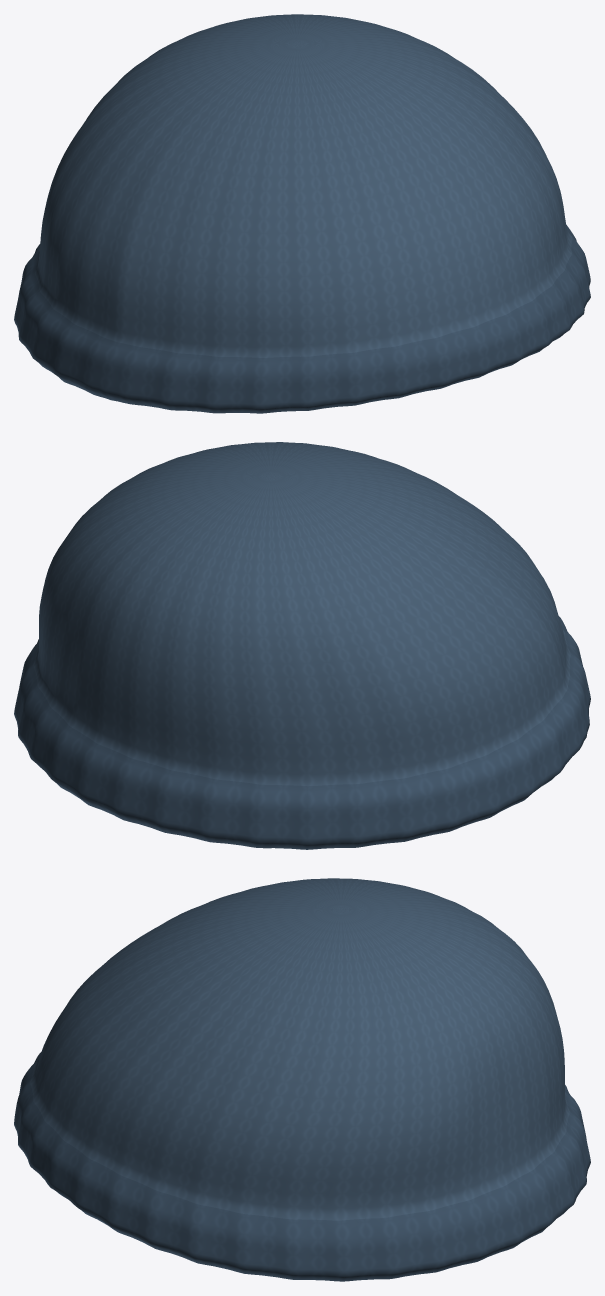
The model's file is beanie-masculine-curly-top.glb.
3 renders of one model, top to bottom at view 1: azimuth 30°, elevation 25°; view 2: azimuth 150°, elevation 25°; view 3: azimuth 270°, elevation 25°, orthographic.
Visible parts, largest first — view 1: Beanie / fitted knit; view 2: Beanie / fitted knit; view 3: Beanie / fitted knit.
Boxes of the visible parts, box(x1,y1,x2,y2) form: Beanie / fitted knit: box(14, 14, 590, 413); Beanie / fitted knit: box(14, 442, 590, 849); Beanie / fitted knit: box(14, 878, 590, 1281).
Bounding box in the file's own units: 0.8028 × 0.4059 × 0.7865.
2 materials, 2 textured.
